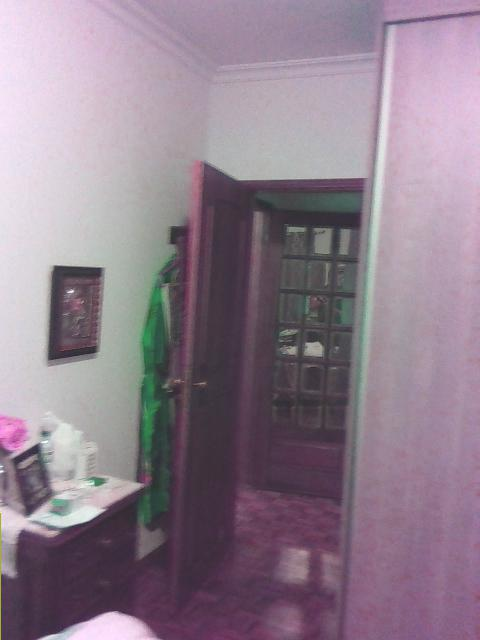open_door: (171, 155, 362, 586)
